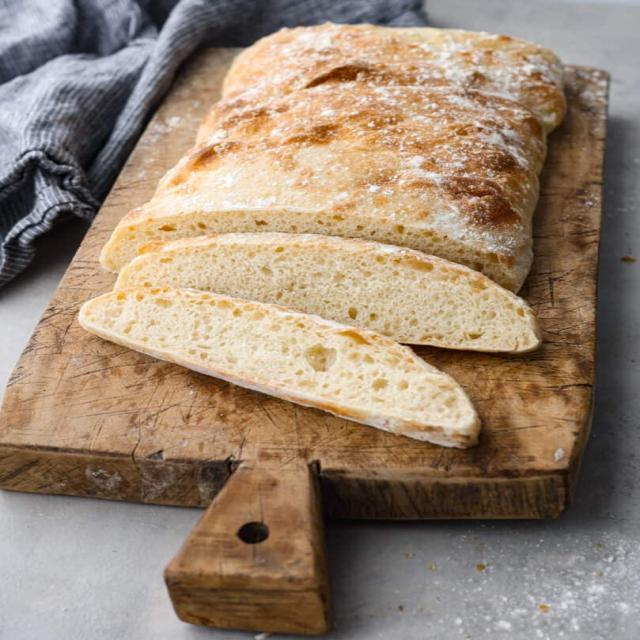Ciabatta: (78, 24, 566, 448)
